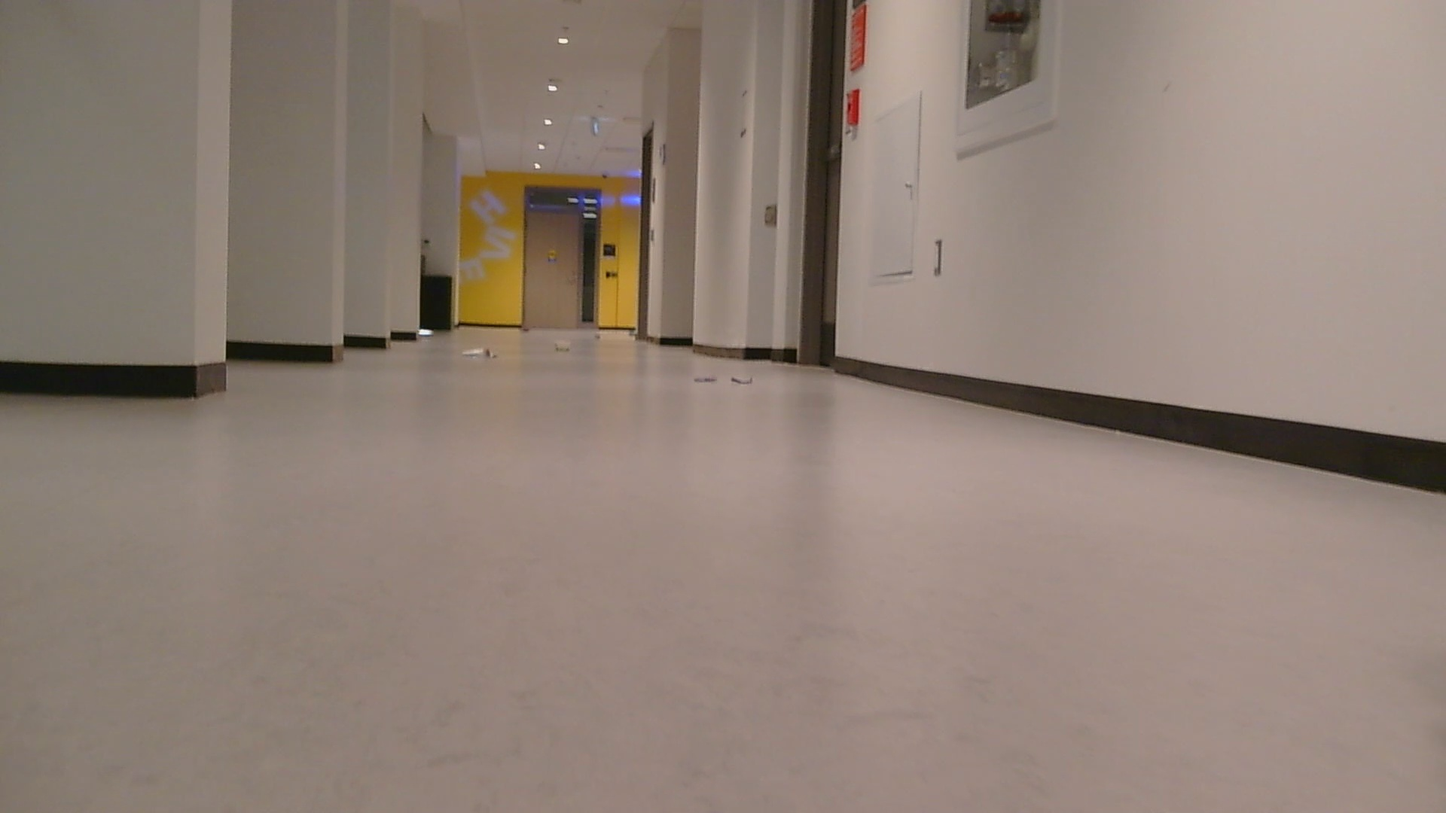carton: (698, 367, 759, 389), (455, 346, 499, 358), (552, 337, 575, 357), (581, 331, 610, 341), (512, 325, 533, 334)
